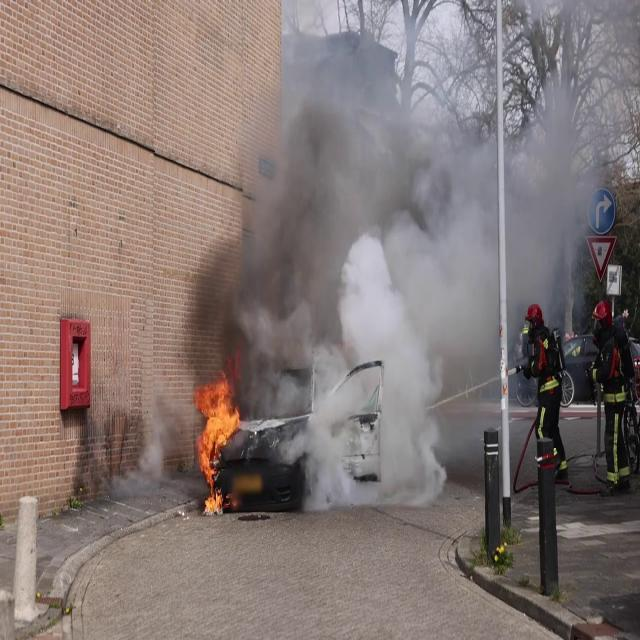Fire: (191, 369, 242, 507)
Smoke: (187, 3, 626, 474)
